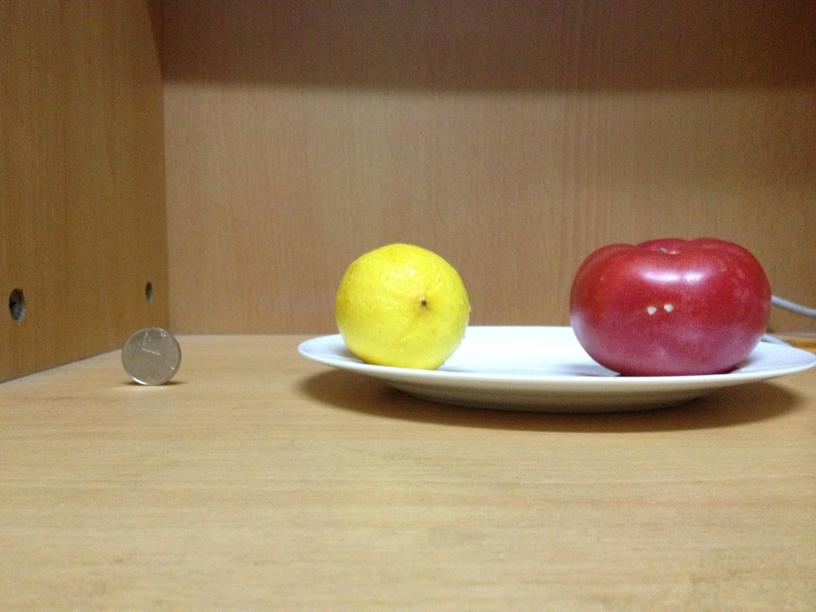coin: (119, 327, 179, 382)
lemon: (333, 243, 470, 369)
tomato: (573, 241, 769, 371)
